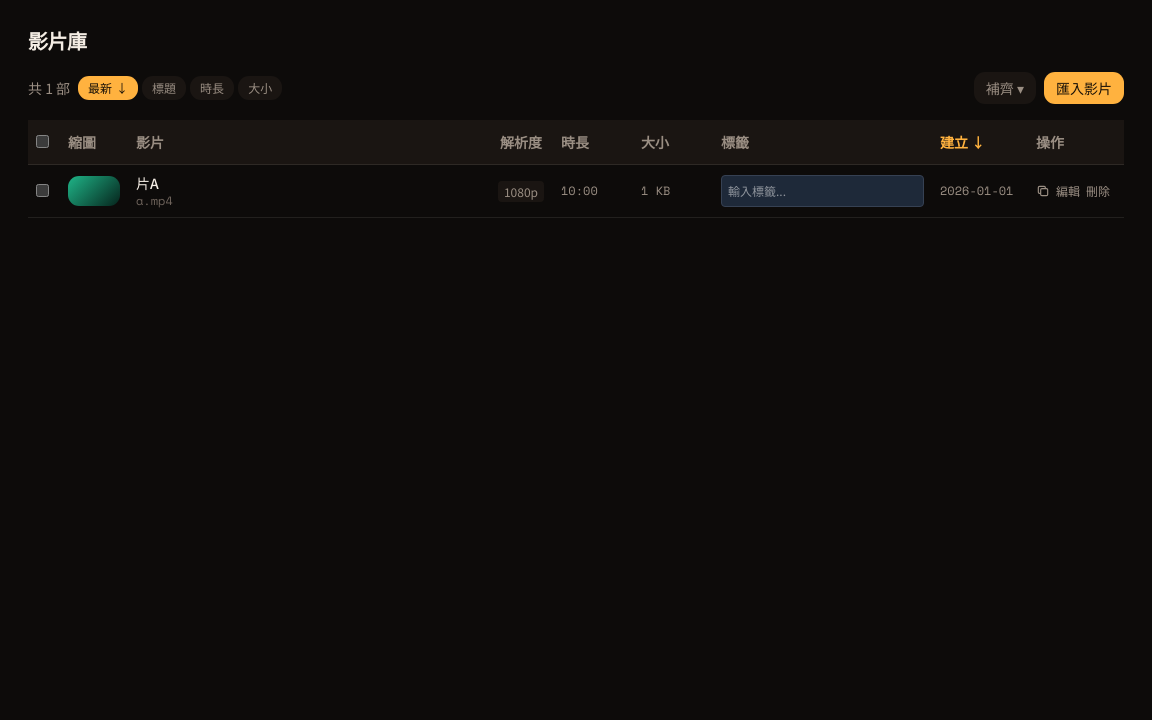
Scenario: VideoManagePage (library) › stays on the page when an Import imported nothing
expect the link "片A" is shown: met, box x1=136 y1=173 x2=159 y2=193
Click the button "匯入影片" at x=1084, y=88, box x1=1044 y1=72 x2=1124 y2=104
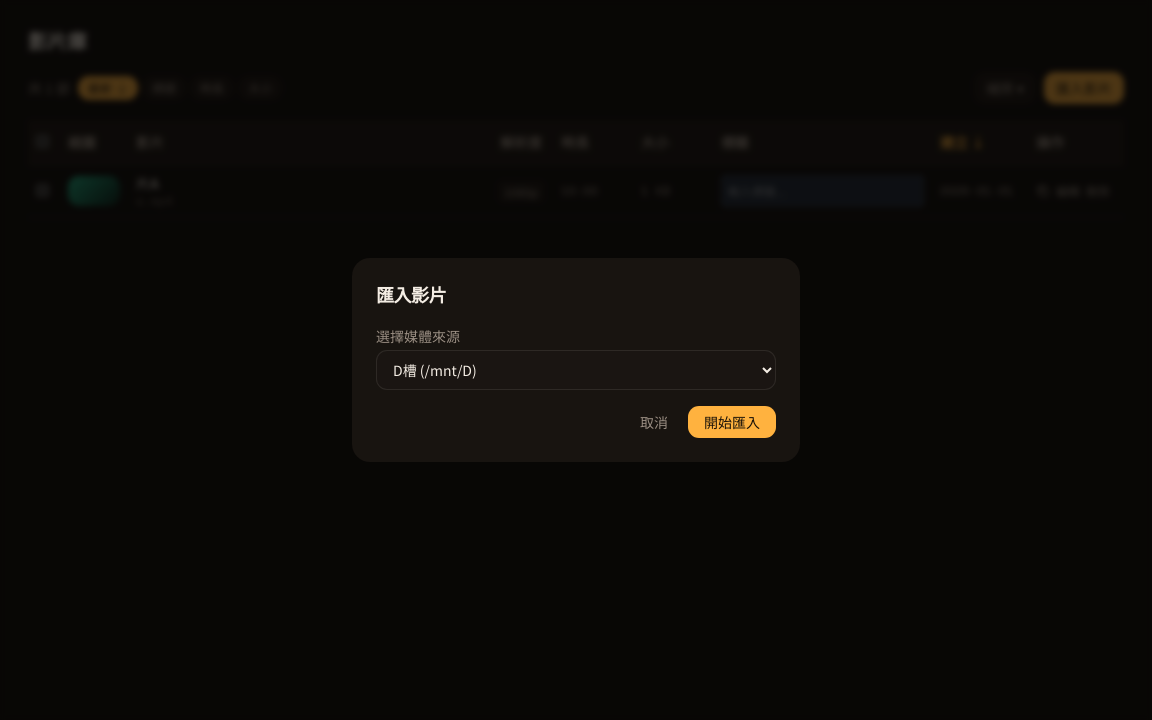
Click the button "開始匯入" at x=732, y=422, box x1=688 y1=406 x2=776 y2=438
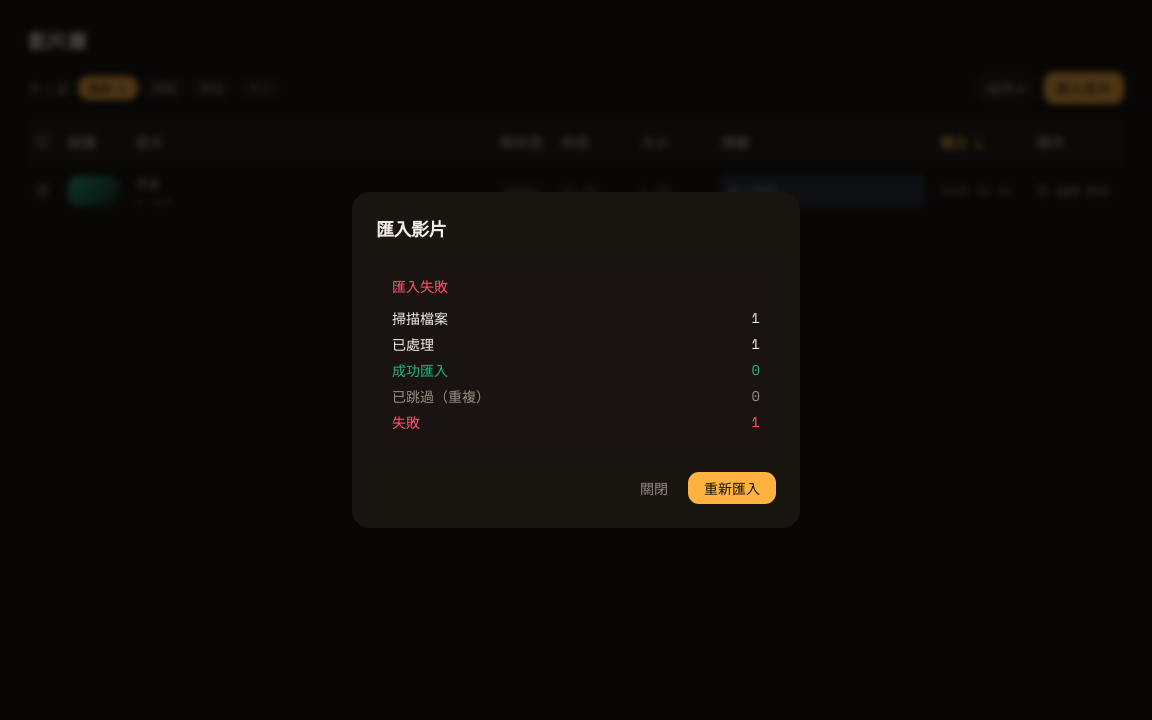
expect the text "匯入失敗" is shown: met, box x1=392 y1=276 x2=448 y2=296
